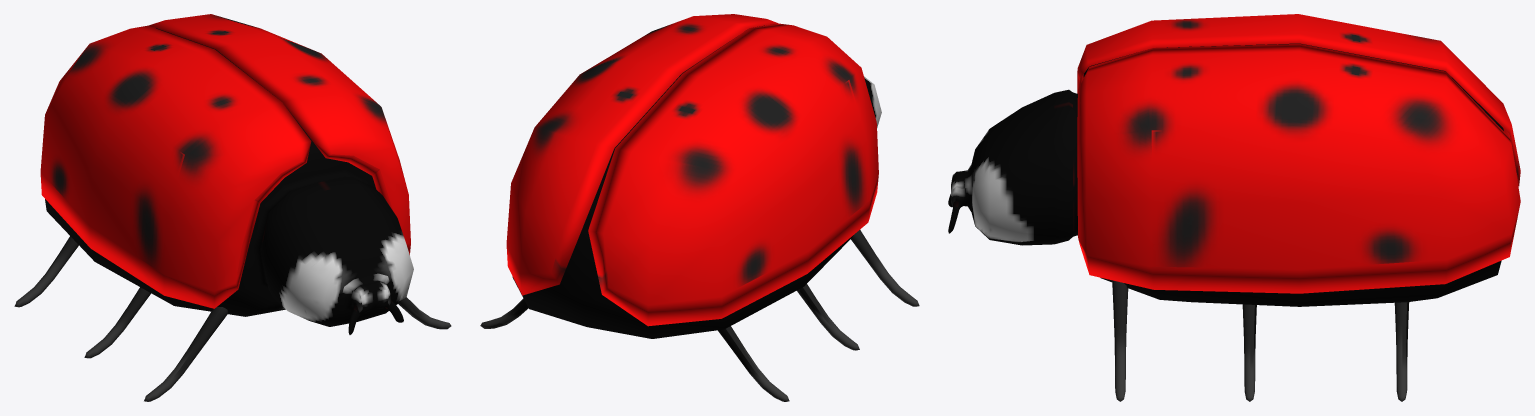
The model's file is ladybug.fbx.
The picture shows the model from 3 angles, left to right: view 1: azimuth 30°, elevation 25°; view 2: azimuth 150°, elevation 25°; view 3: azimuth 270°, elevation 25°; orthographic projection. The views are drawn at different scales.
Parts seen in each view (by area): view 1: Cube.001, Cube, Cube.002; view 2: Cube.001, Cube.002, Cube; view 3: Cube.002, Cube, Cube.001.
Boxes of the visible parts, box(x1,y1,x2,y2) form: Cube.001: box(40, 25, 311, 308); Cube: box(14, 28, 451, 401); Cube.002: box(148, 14, 410, 254); Cube.001: box(588, 23, 878, 326); Cube.002: box(506, 14, 778, 295); Cube: box(480, 25, 919, 401); Cube.002: box(1077, 44, 1520, 293); Cube: box(948, 43, 1503, 401); Cube.001: box(1077, 14, 1520, 186).
Bounding box in the file's own units: 8.37 × 6.67 × 12.38.
Materials: 1 (1 with a texture image).
